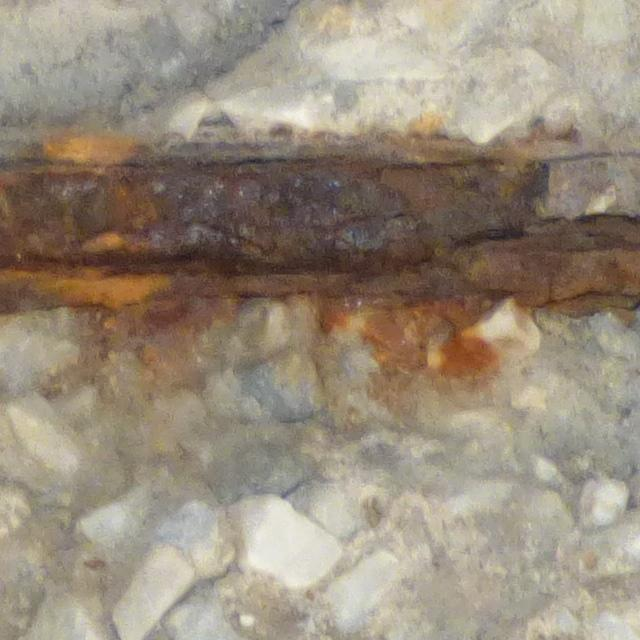Rust: (3, 208, 632, 333), (4, 151, 539, 242)
